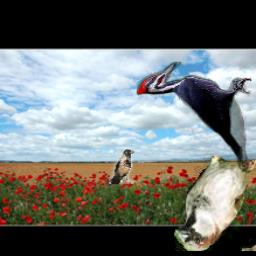Crow: (109, 150, 134, 185)
Sparrow: (175, 138, 256, 252)
Woodpecker: (137, 63, 251, 171)
